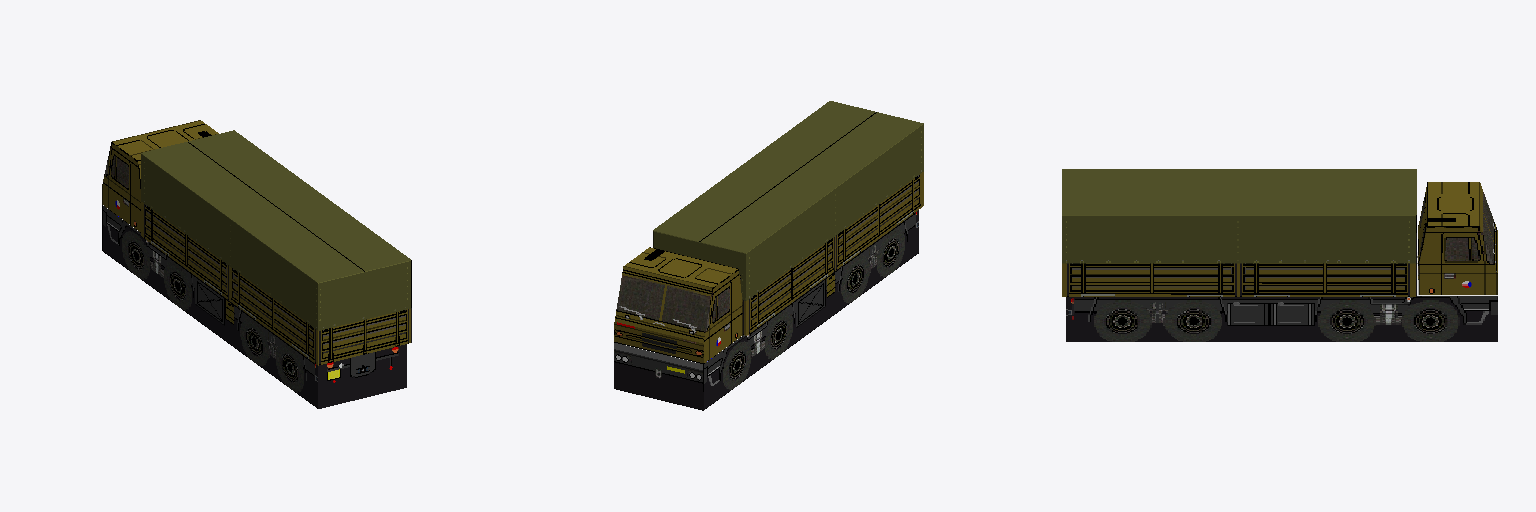
3 views of the same model, side by side, from view 1: azimuth 30°, elevation 25°; view 2: azimuth 150°, elevation 25°; view 3: azimuth 270°, elevation 25° (orthographic).
Visible parts, largest first — view 1: Box003, Box002, Box004; view 2: Box003, Box002, Box004; view 3: Box003, Box002, Box004.
Boxes of the visible parts, box(x1,y1,x2,y2) form: Box003: box(141, 130, 411, 365); Box002: box(102, 205, 406, 408); Box004: box(102, 120, 218, 232); Box003: box(653, 101, 923, 335); Box002: box(614, 210, 918, 410); Box004: box(614, 247, 742, 363); Box003: box(1062, 169, 1416, 296); Box002: box(1066, 252, 1497, 341); Box004: box(1418, 182, 1497, 294).
Bounding box in the file's own units: 3.05 × 3.99 × 12.27.
Materials: 1 (1 with a texture image).